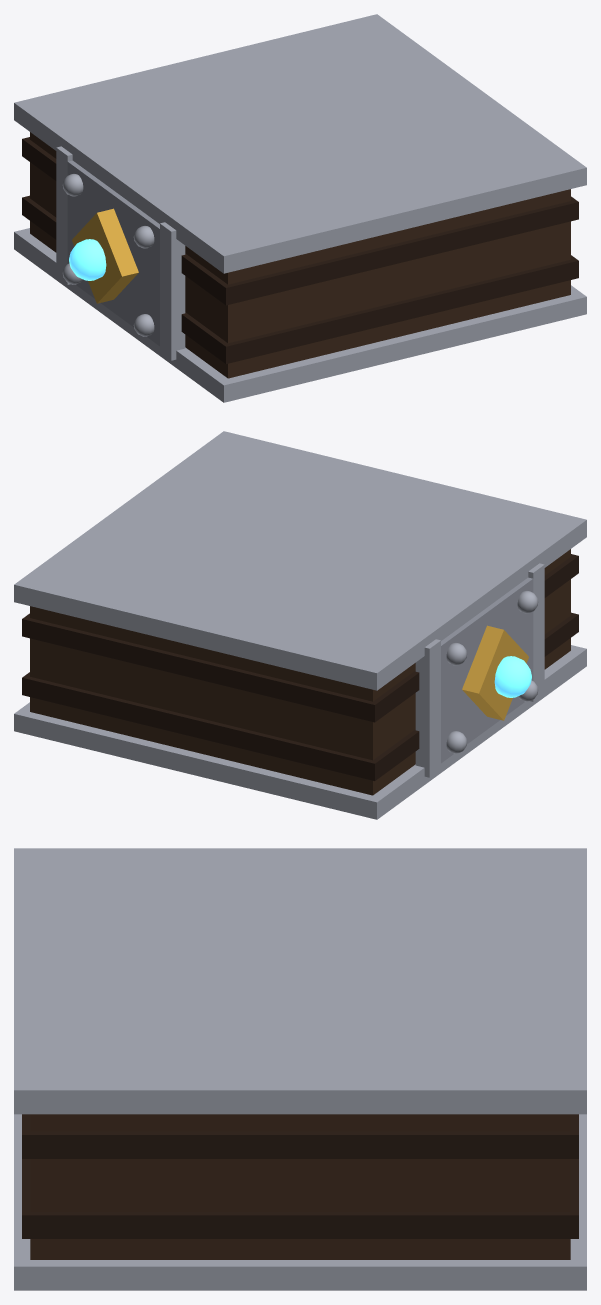
3 renders of one model, top to bottom at view 1: azimuth 30°, elevation 25°; view 2: azimuth 150°, elevation 25°; view 3: azimuth 270°, elevation 25°, orthographic. The views are drawn at different scales.
Parts seen in each view (by area): view 1: warlord-bracer; view 2: warlord-bracer; view 3: warlord-bracer.
Part boxes in pixels (x1,y1,x2,y2): warlord-bracer: (14, 14, 586, 402); warlord-bracer: (14, 431, 586, 819); warlord-bracer: (14, 848, 586, 1290).
Size of the model in its own units: 0.3791 by 0.1295 by 0.3357.
